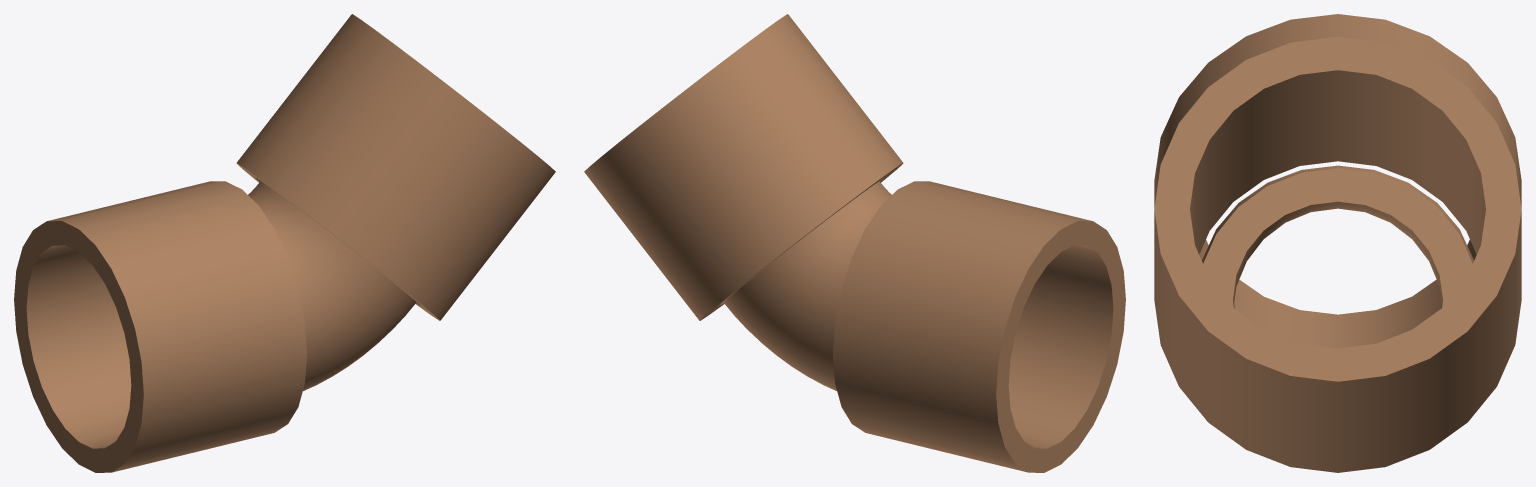
Rendered from HID-CNX-002.glb.
3 views of the same model, side by side, from view 1: azimuth 30°, elevation 25°; view 2: azimuth 150°, elevation 25°; view 3: azimuth 270°, elevation 25° (orthographic). The views are drawn at different scales.
Parts seen in each view (by area): view 1: HID-CNX-002_bolsa1, HID-CNX-002_bolsa2, HID-CNX-002_curva; view 2: HID-CNX-002_bolsa1, HID-CNX-002_bolsa2, HID-CNX-002_curva; view 3: HID-CNX-002_bolsa2, HID-CNX-002_bolsa1, HID-CNX-002_curva.
Part boxes in pixels (x1,y1,x2,y2): HID-CNX-002_bolsa1: [14, 181, 306, 472]; HID-CNX-002_bolsa2: [236, 14, 555, 320]; HID-CNX-002_curva: [248, 181, 416, 390]; HID-CNX-002_bolsa1: [833, 181, 1125, 472]; HID-CNX-002_bolsa2: [584, 14, 903, 320]; HID-CNX-002_curva: [723, 181, 891, 390]; HID-CNX-002_bolsa2: [1154, 36, 1521, 472]; HID-CNX-002_bolsa1: [1154, 14, 1521, 348]; HID-CNX-002_curva: [1202, 165, 1473, 308].
Bounding box in the file's own units: 0.0626 × 0.0479 × 0.031.
